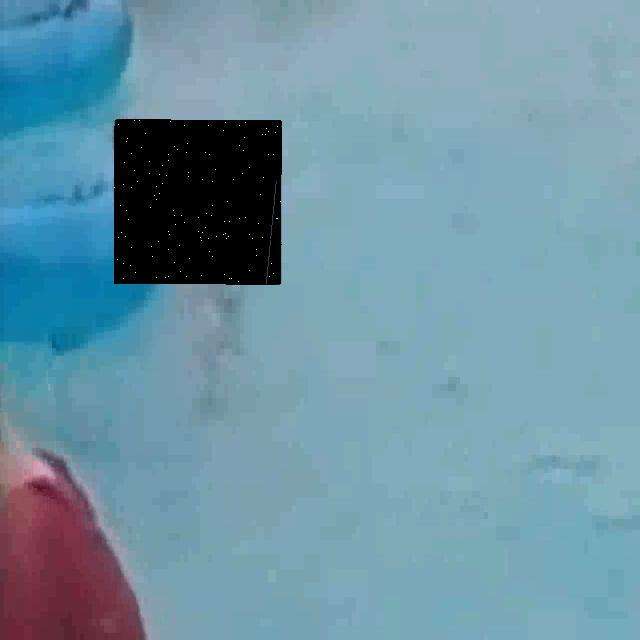Out of Water: (114, 120, 282, 284)
